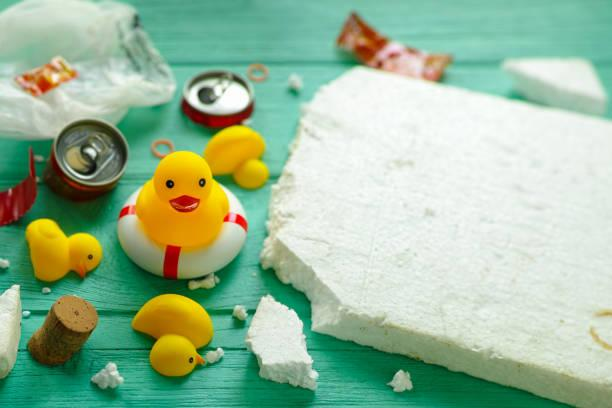PS: (241, 63, 612, 408)
